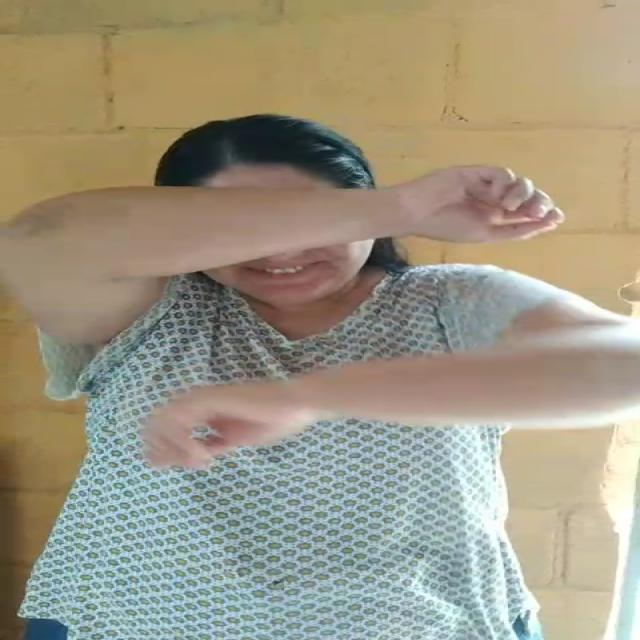7_mano_rostro: (60, 179, 539, 271)
